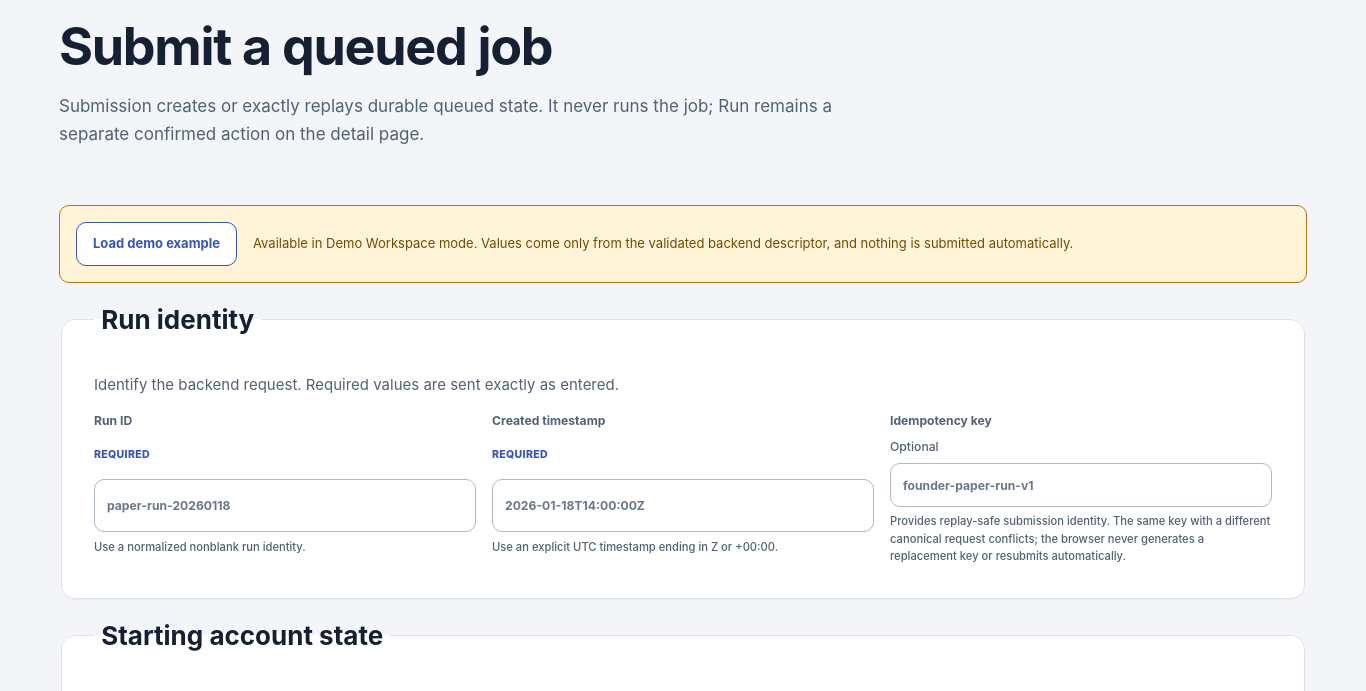
Test: PaperJobSubmissionView › loads a submission example only from the backend descriptor and never submits it
Click the button "Load demo example". click: [156, 244]
box: top-left (76, 222), bottom-right (237, 266)
(page scrolled)
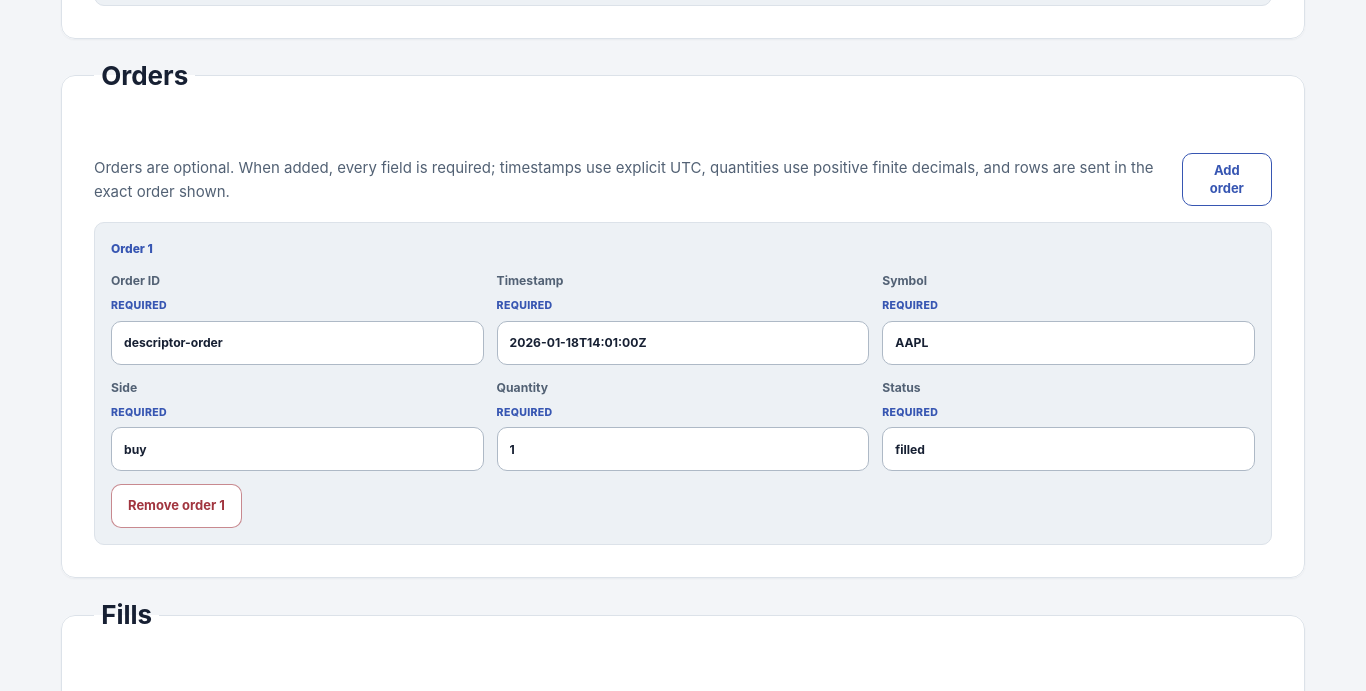
Check: the field labelled "Order ID" holds "descriptor-order", box top-left (111, 321), bottom-right (484, 365)
